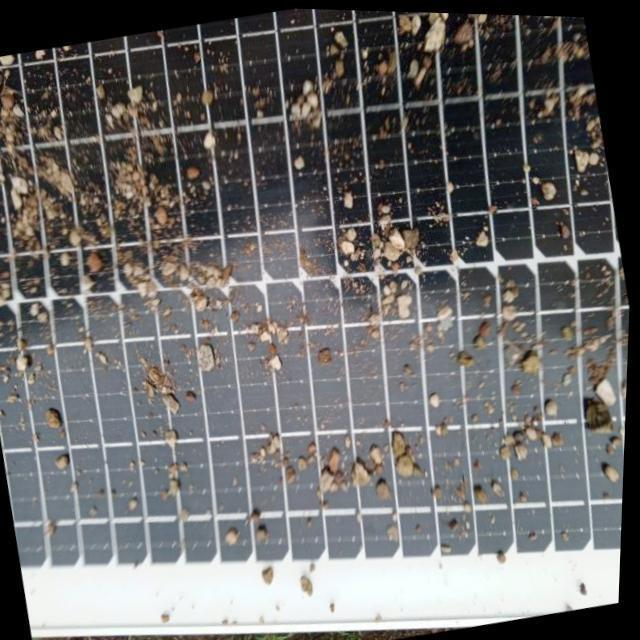Surface Contaminant: (0, 8, 631, 618)
